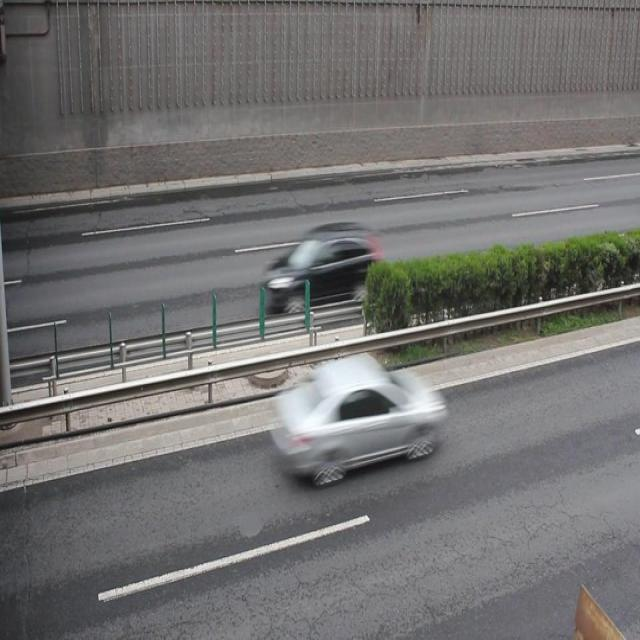car: (267, 353, 442, 482), (262, 221, 384, 314)
